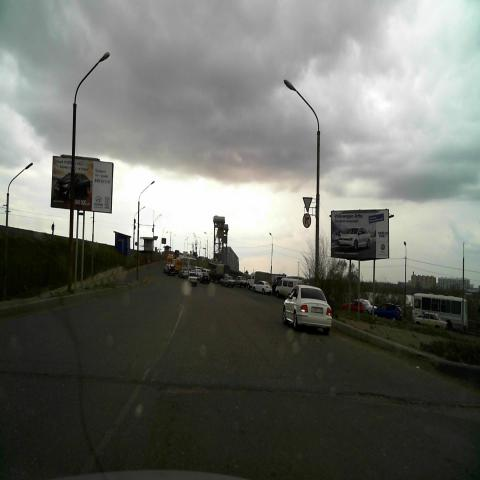3_18: (302, 212, 312, 229)
